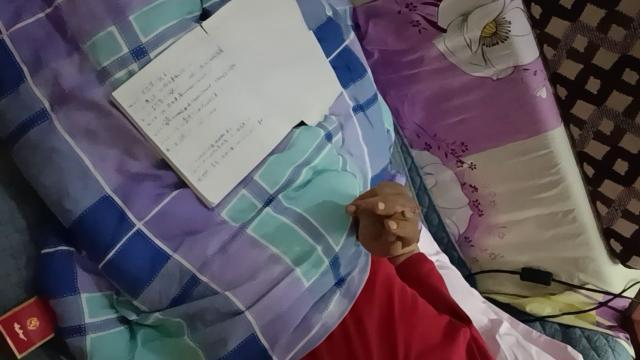Smoking: (388, 206, 422, 222)
